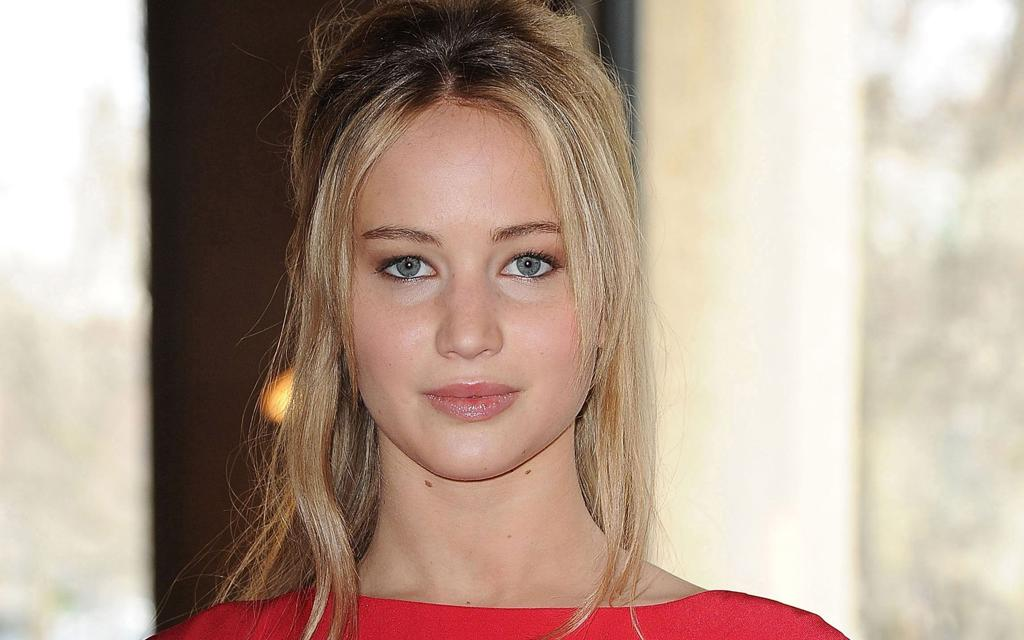face: (334, 92, 602, 478)
